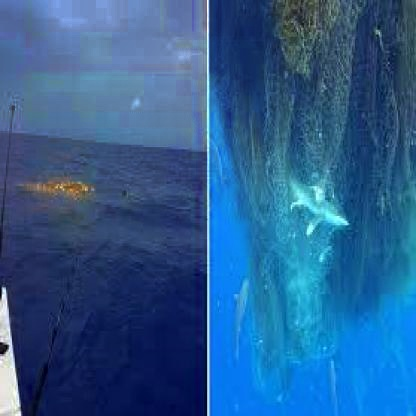net: (223, 2, 416, 179)
